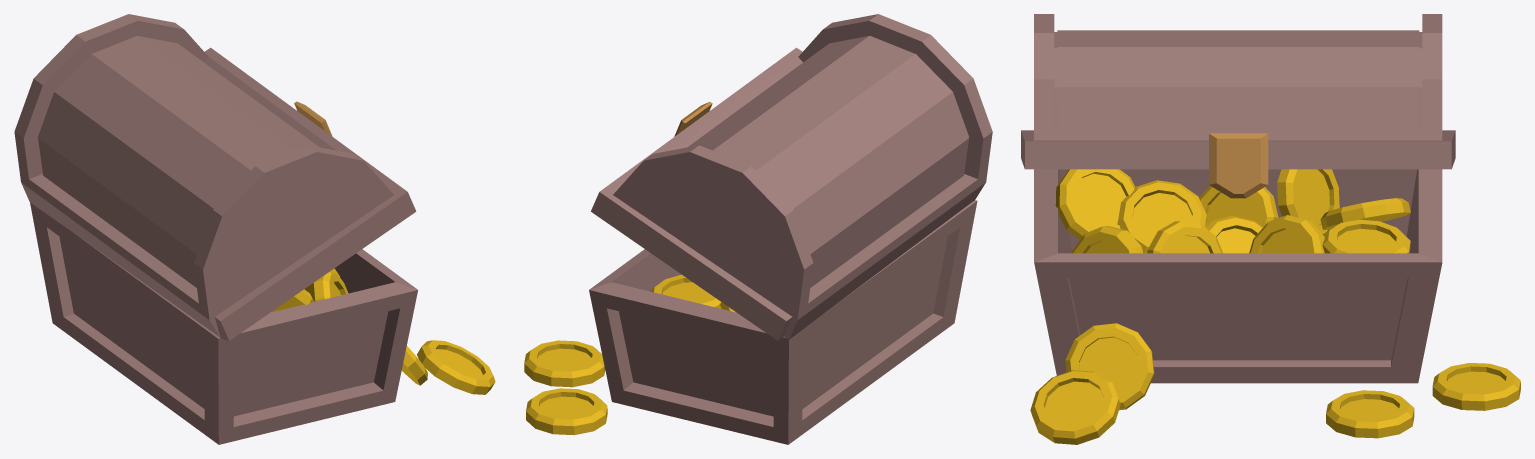
The model's file is Charlton_TreasureChest.glb.
The picture shows the model from 3 angles, left to right: view 1: azimuth 30°, elevation 25°; view 2: azimuth 150°, elevation 25°; view 3: azimuth 270°, elevation 25°; orthographic projection. The views are drawn at different scales.
Parts seen in each view (by area): view 1: Chest, Circle.012, Circle.002, Circle.011; view 2: Chest, Circle.013, Circle.010, Circle.009; view 3: Chest, Circle.012, Circle.011, Circle, Circle.001, Latch, Circle.010, Circle.013, Circle.008, Circle.009, Circle.006, Circle.004 (+4 smaller).
Part boxes in pixels (box(x1,y1,x2,y2)): Chest: box(14, 14, 417, 444); Circle.012: box(417, 340, 495, 394); Circle.002: box(313, 270, 348, 301); Circle.011: box(401, 346, 427, 385); Chest: box(589, 14, 992, 444); Circle.013: box(526, 388, 607, 435); Circle.010: box(524, 340, 605, 387); Circle.009: box(650, 274, 721, 308); Chest: box(1021, 14, 1455, 383); Circle.012: box(1030, 370, 1120, 444); Circle.011: box(1065, 323, 1154, 410); Circle: box(1055, 169, 1134, 239); Circle.001: box(1117, 180, 1206, 253); Latch: box(1209, 133, 1268, 198); Circle.010: box(1326, 390, 1414, 438); Circle.013: box(1432, 363, 1520, 410); Circle.008: box(1277, 169, 1339, 235); Circle.009: box(1322, 219, 1410, 253); Circle.006: box(1249, 215, 1324, 253); Circle.004: box(1199, 186, 1278, 227).
Bounding box in the file's own units: 3.08 × 2.77 × 4.
